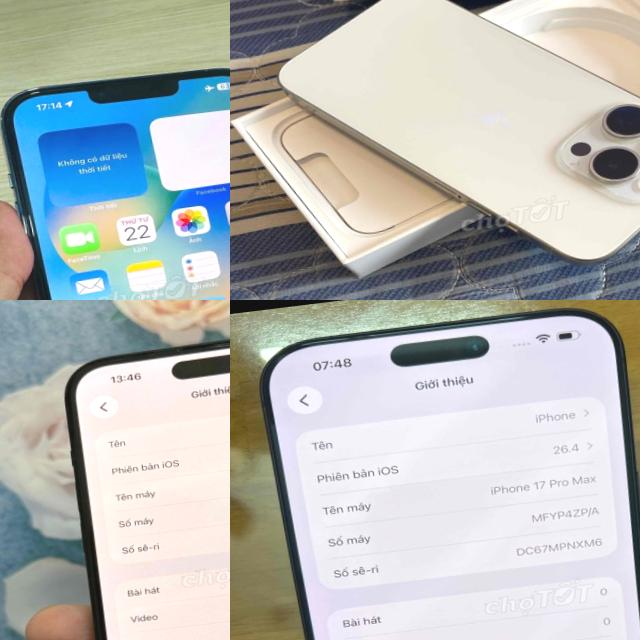gen_12_13: (0, 50, 230, 300)
gen_15: (263, 0, 640, 300), (43, 316, 230, 640)
gen_17: (244, 300, 640, 640)
